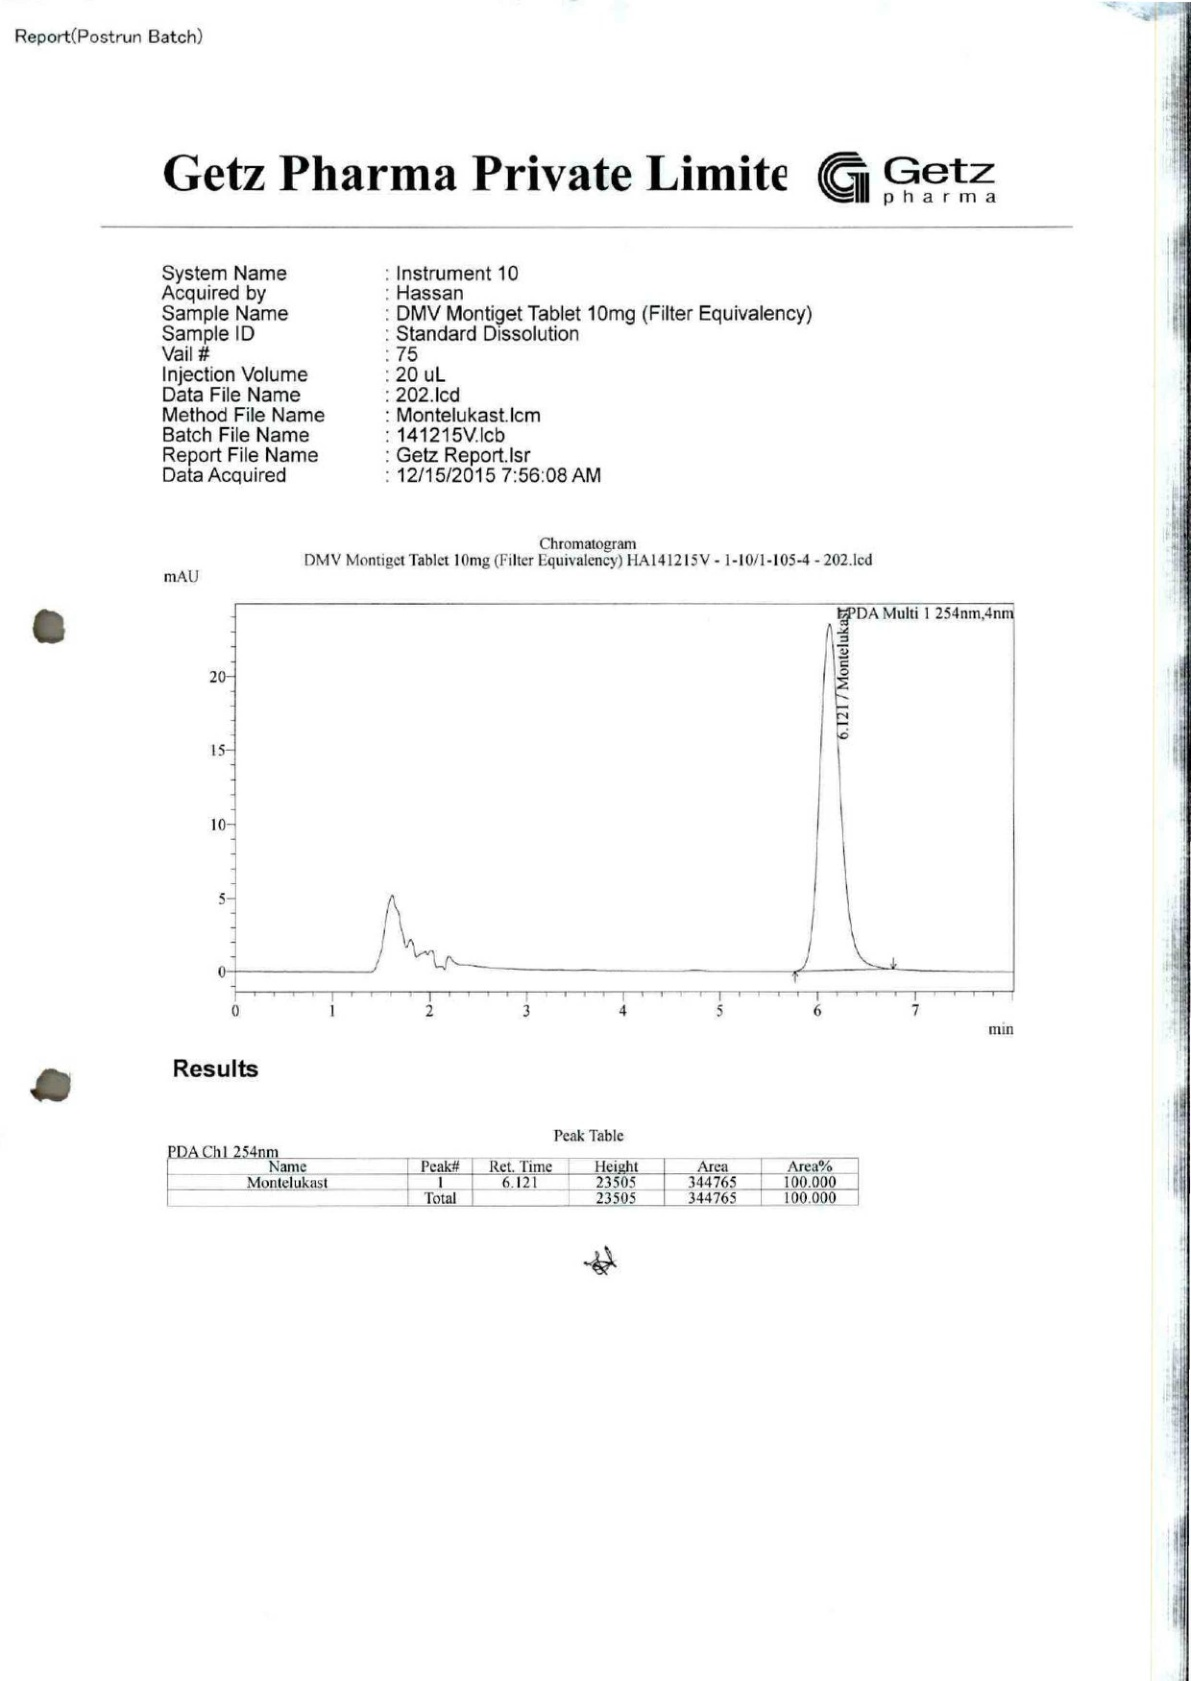full_lined: (166, 1158, 860, 1207)
nolines: (155, 260, 815, 489)
